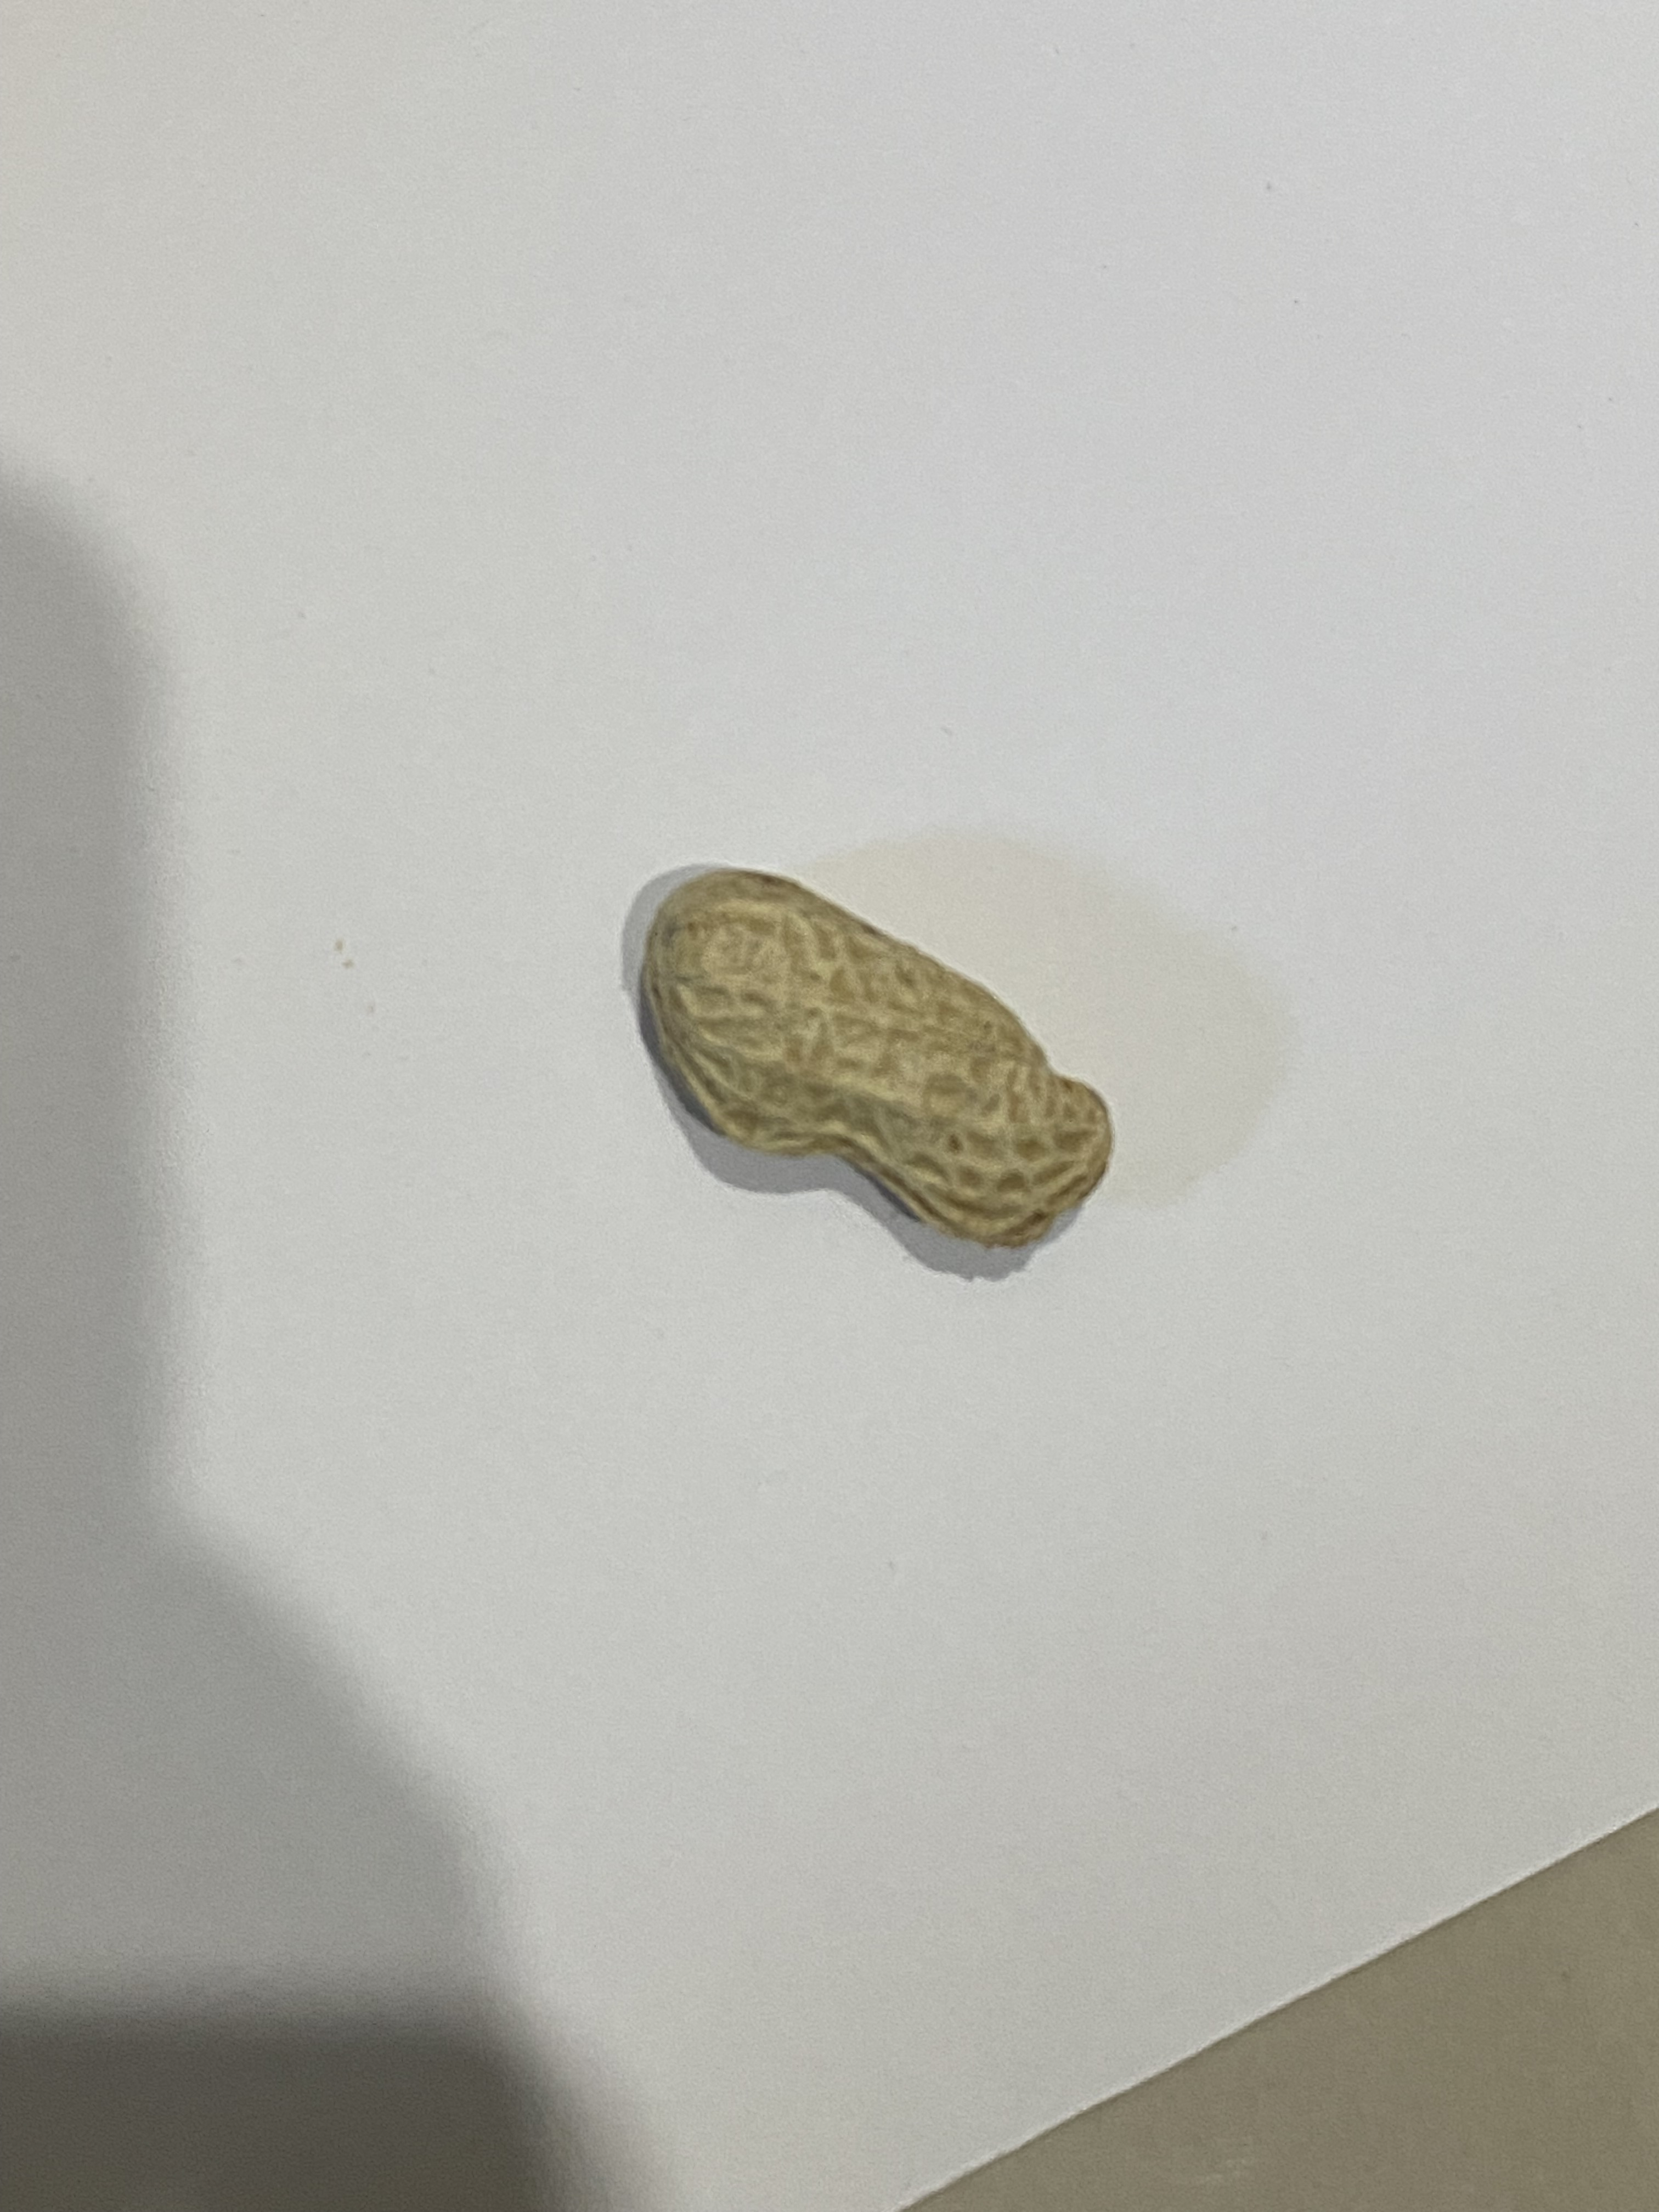kacang2: (636, 862, 1122, 1258)
